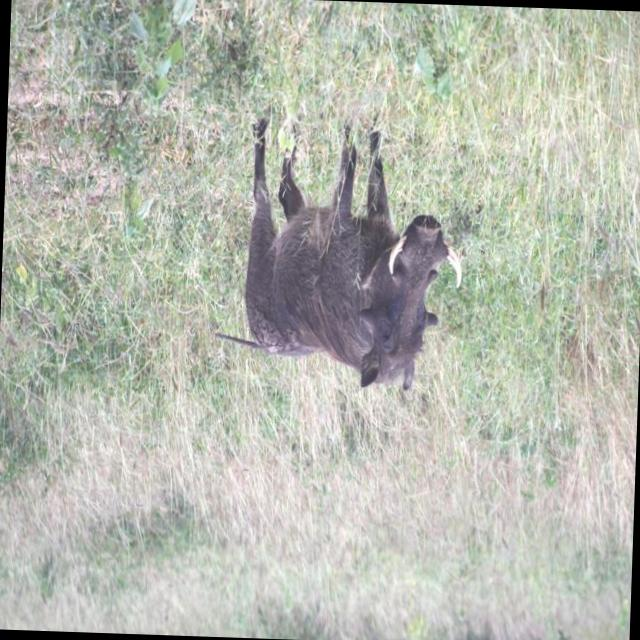pig: (223, 121, 461, 388)
